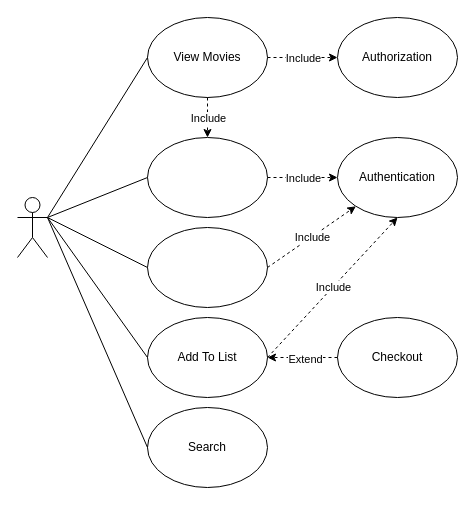
This 475x505 diagram has some shape labels left out. The shapes that lost their labels are listed below. From the top down, each one's centre as x and y in pixels, then its label:
(x=207, y=177): Subscription
(x=32, y=227): Actor
(x=207, y=267): Comment
